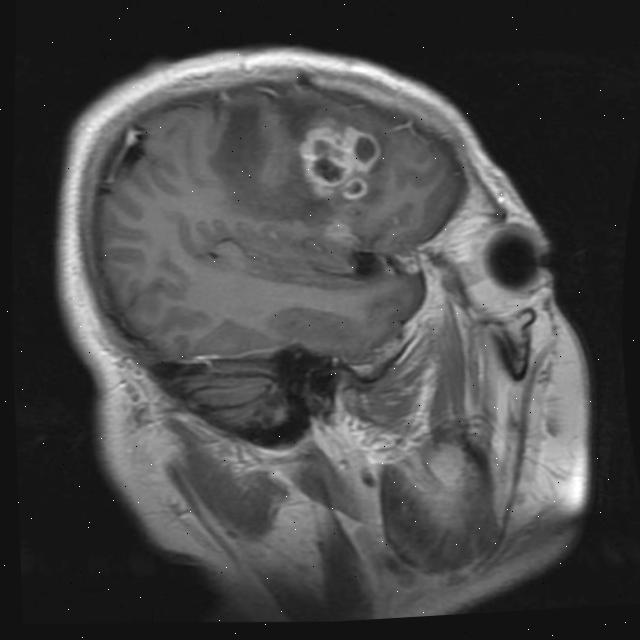Glioma: (295, 115, 386, 204)
